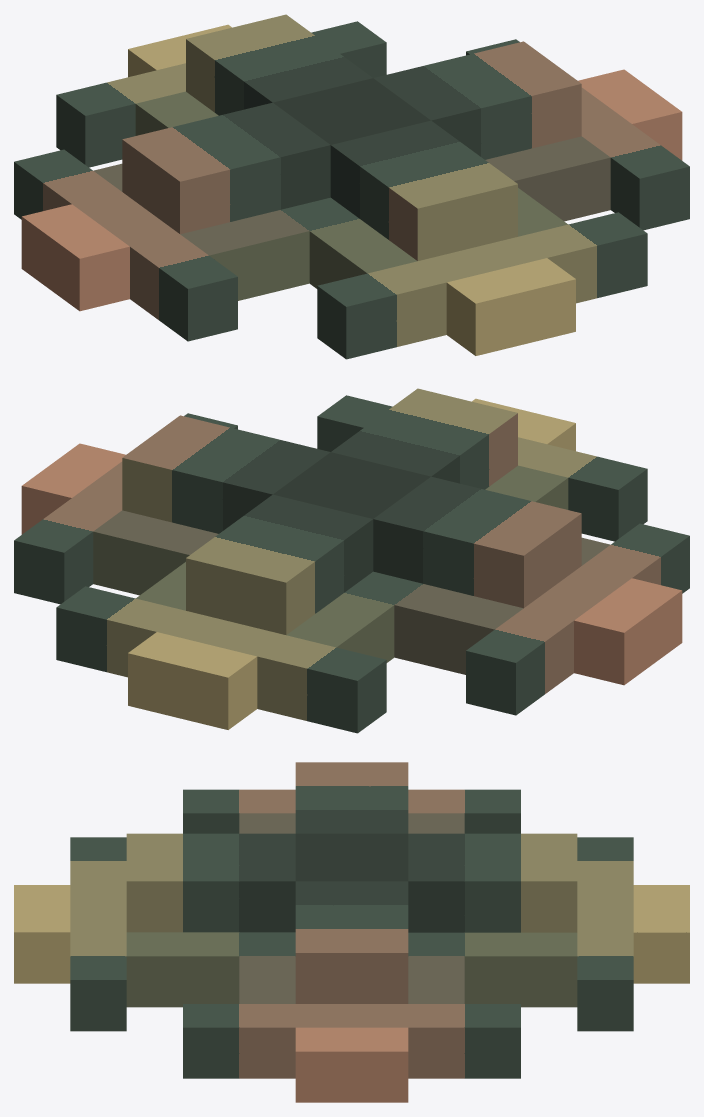
File: cannon_standart-4.fbx
3 views of the same model, one above another, from view 1: azimuth 30°, elevation 25°; view 2: azimuth 150°, elevation 25°; view 3: azimuth 270°, elevation 25° (orthographic). The views are drawn at different scales.
Parts seen in each view (by area): view 1: cannon_standart-4.001; view 2: cannon_standart-4.001; view 3: cannon_standart-4.001.
Boxes of the visible parts, x1=… form: cannon_standart-4.001: x1=14, y1=14, x2=689, y2=359; cannon_standart-4.001: x1=14, y1=388, x2=689, y2=733; cannon_standart-4.001: x1=14, y1=762, x2=689, y2=1102.
Bounding box in the file's own units: 1.2 × 0.2 × 1.2.
1 material, 1 textured.
